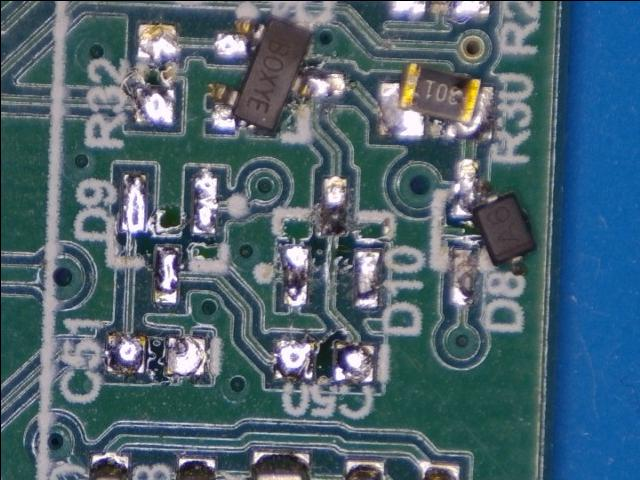Incorrect_installation: (211, 16, 345, 131), (453, 158, 537, 276), (378, 62, 494, 141)
